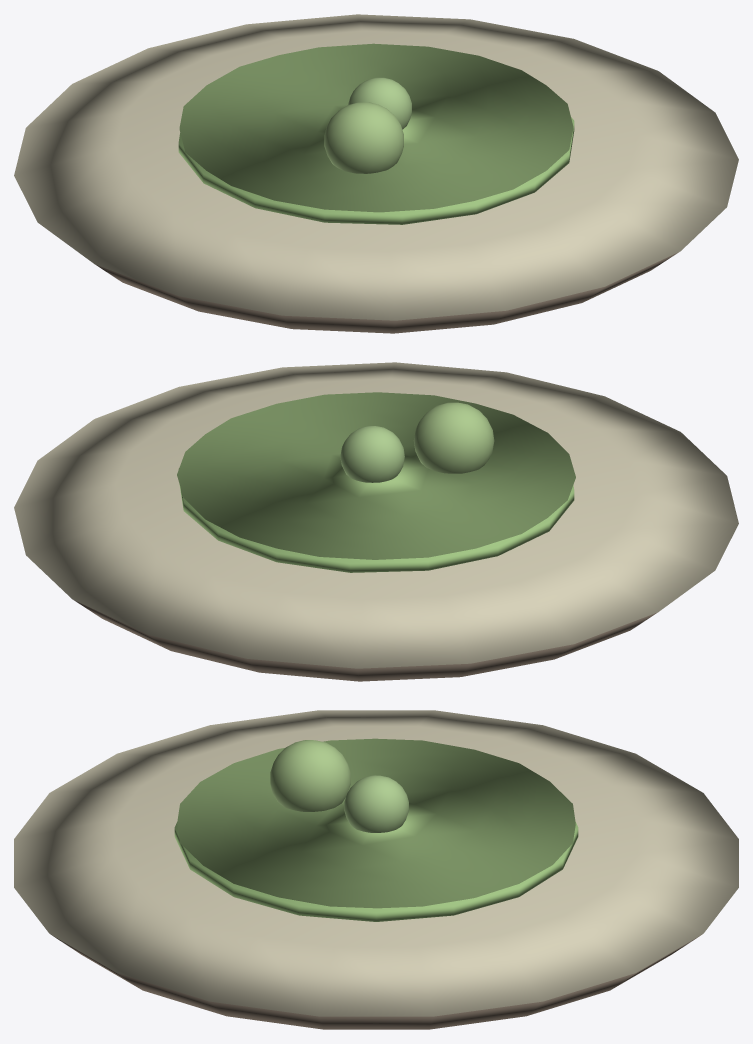
File: terrain_island_02.glb
3 views of the same model, one above another, from view 1: azimuth 30°, elevation 25°; view 2: azimuth 150°, elevation 25°; view 3: azimuth 270°, elevation 25° (orthographic).
Visible parts, largest first — view 1: island_sand, island_grass_dome, island_base, island_grass_base, hill1, hill0; view 2: island_sand, island_grass_dome, island_base, island_grass_base, hill1, hill0; view 3: island_sand, island_grass_dome, island_base, island_grass_base, hill1, hill0.
Part boxes in pixels (<box>): island_sand: <box>14,14,738,320</box>; island_grass_dome: <box>179,43,573,212</box>; island_base: <box>95,251,680,333</box>; island_grass_base: <box>178,117,574,224</box>; hill1: <box>324,102,403,173</box>; hill0: <box>348,77,411,129</box>; island_sand: <box>14,362,738,668</box>; island_grass_dome: <box>177,392,575,559</box>; island_base: <box>72,599,657,681</box>; island_grass_base: <box>178,468,574,572</box>; hill1: <box>413,402,494,473</box>; hill0: <box>340,426,404,482</box>; island_sand: <box>14,710,738,1016</box>; island_grass_dome: <box>177,738,575,908</box>; island_base: <box>52,935,700,1029</box>; island_grass_base: <box>174,822,578,921</box>; hill1: <box>270,740,350,811</box>; hill0: <box>344,775,408,832</box>.
Size of the model in its own units: 138 by 26.55 by 138.
